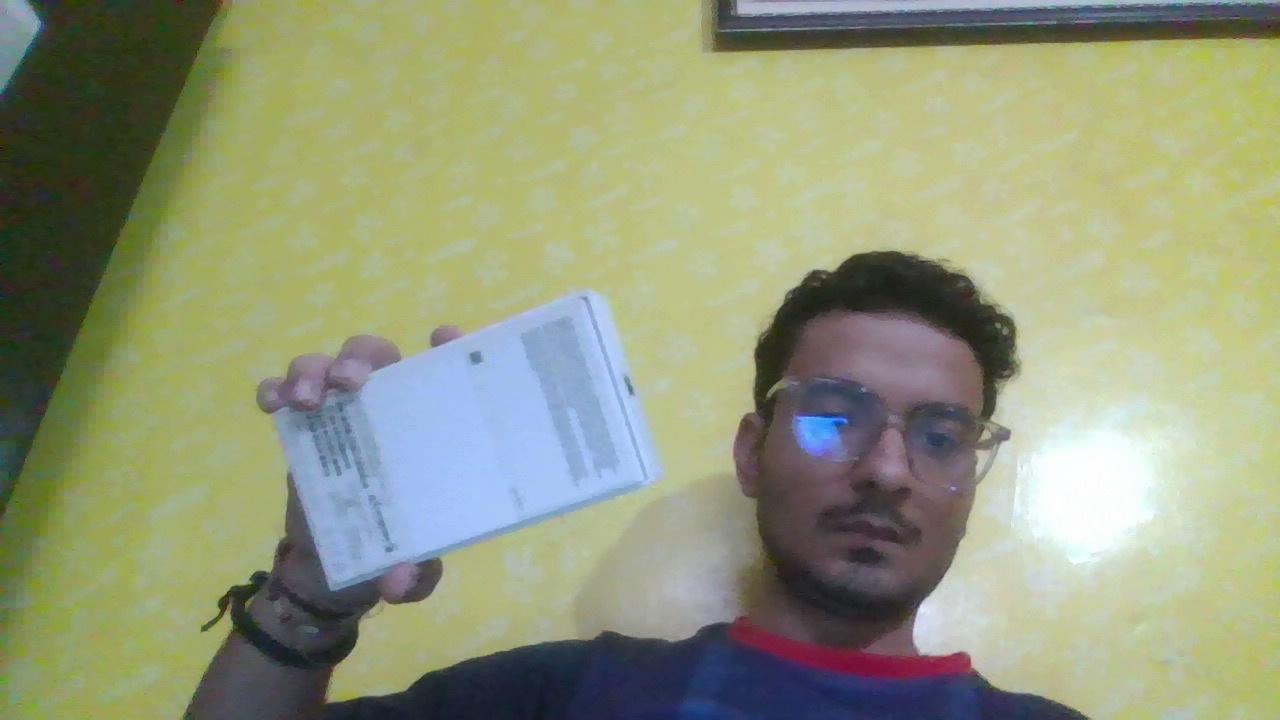Phone: (273, 252, 651, 607)
